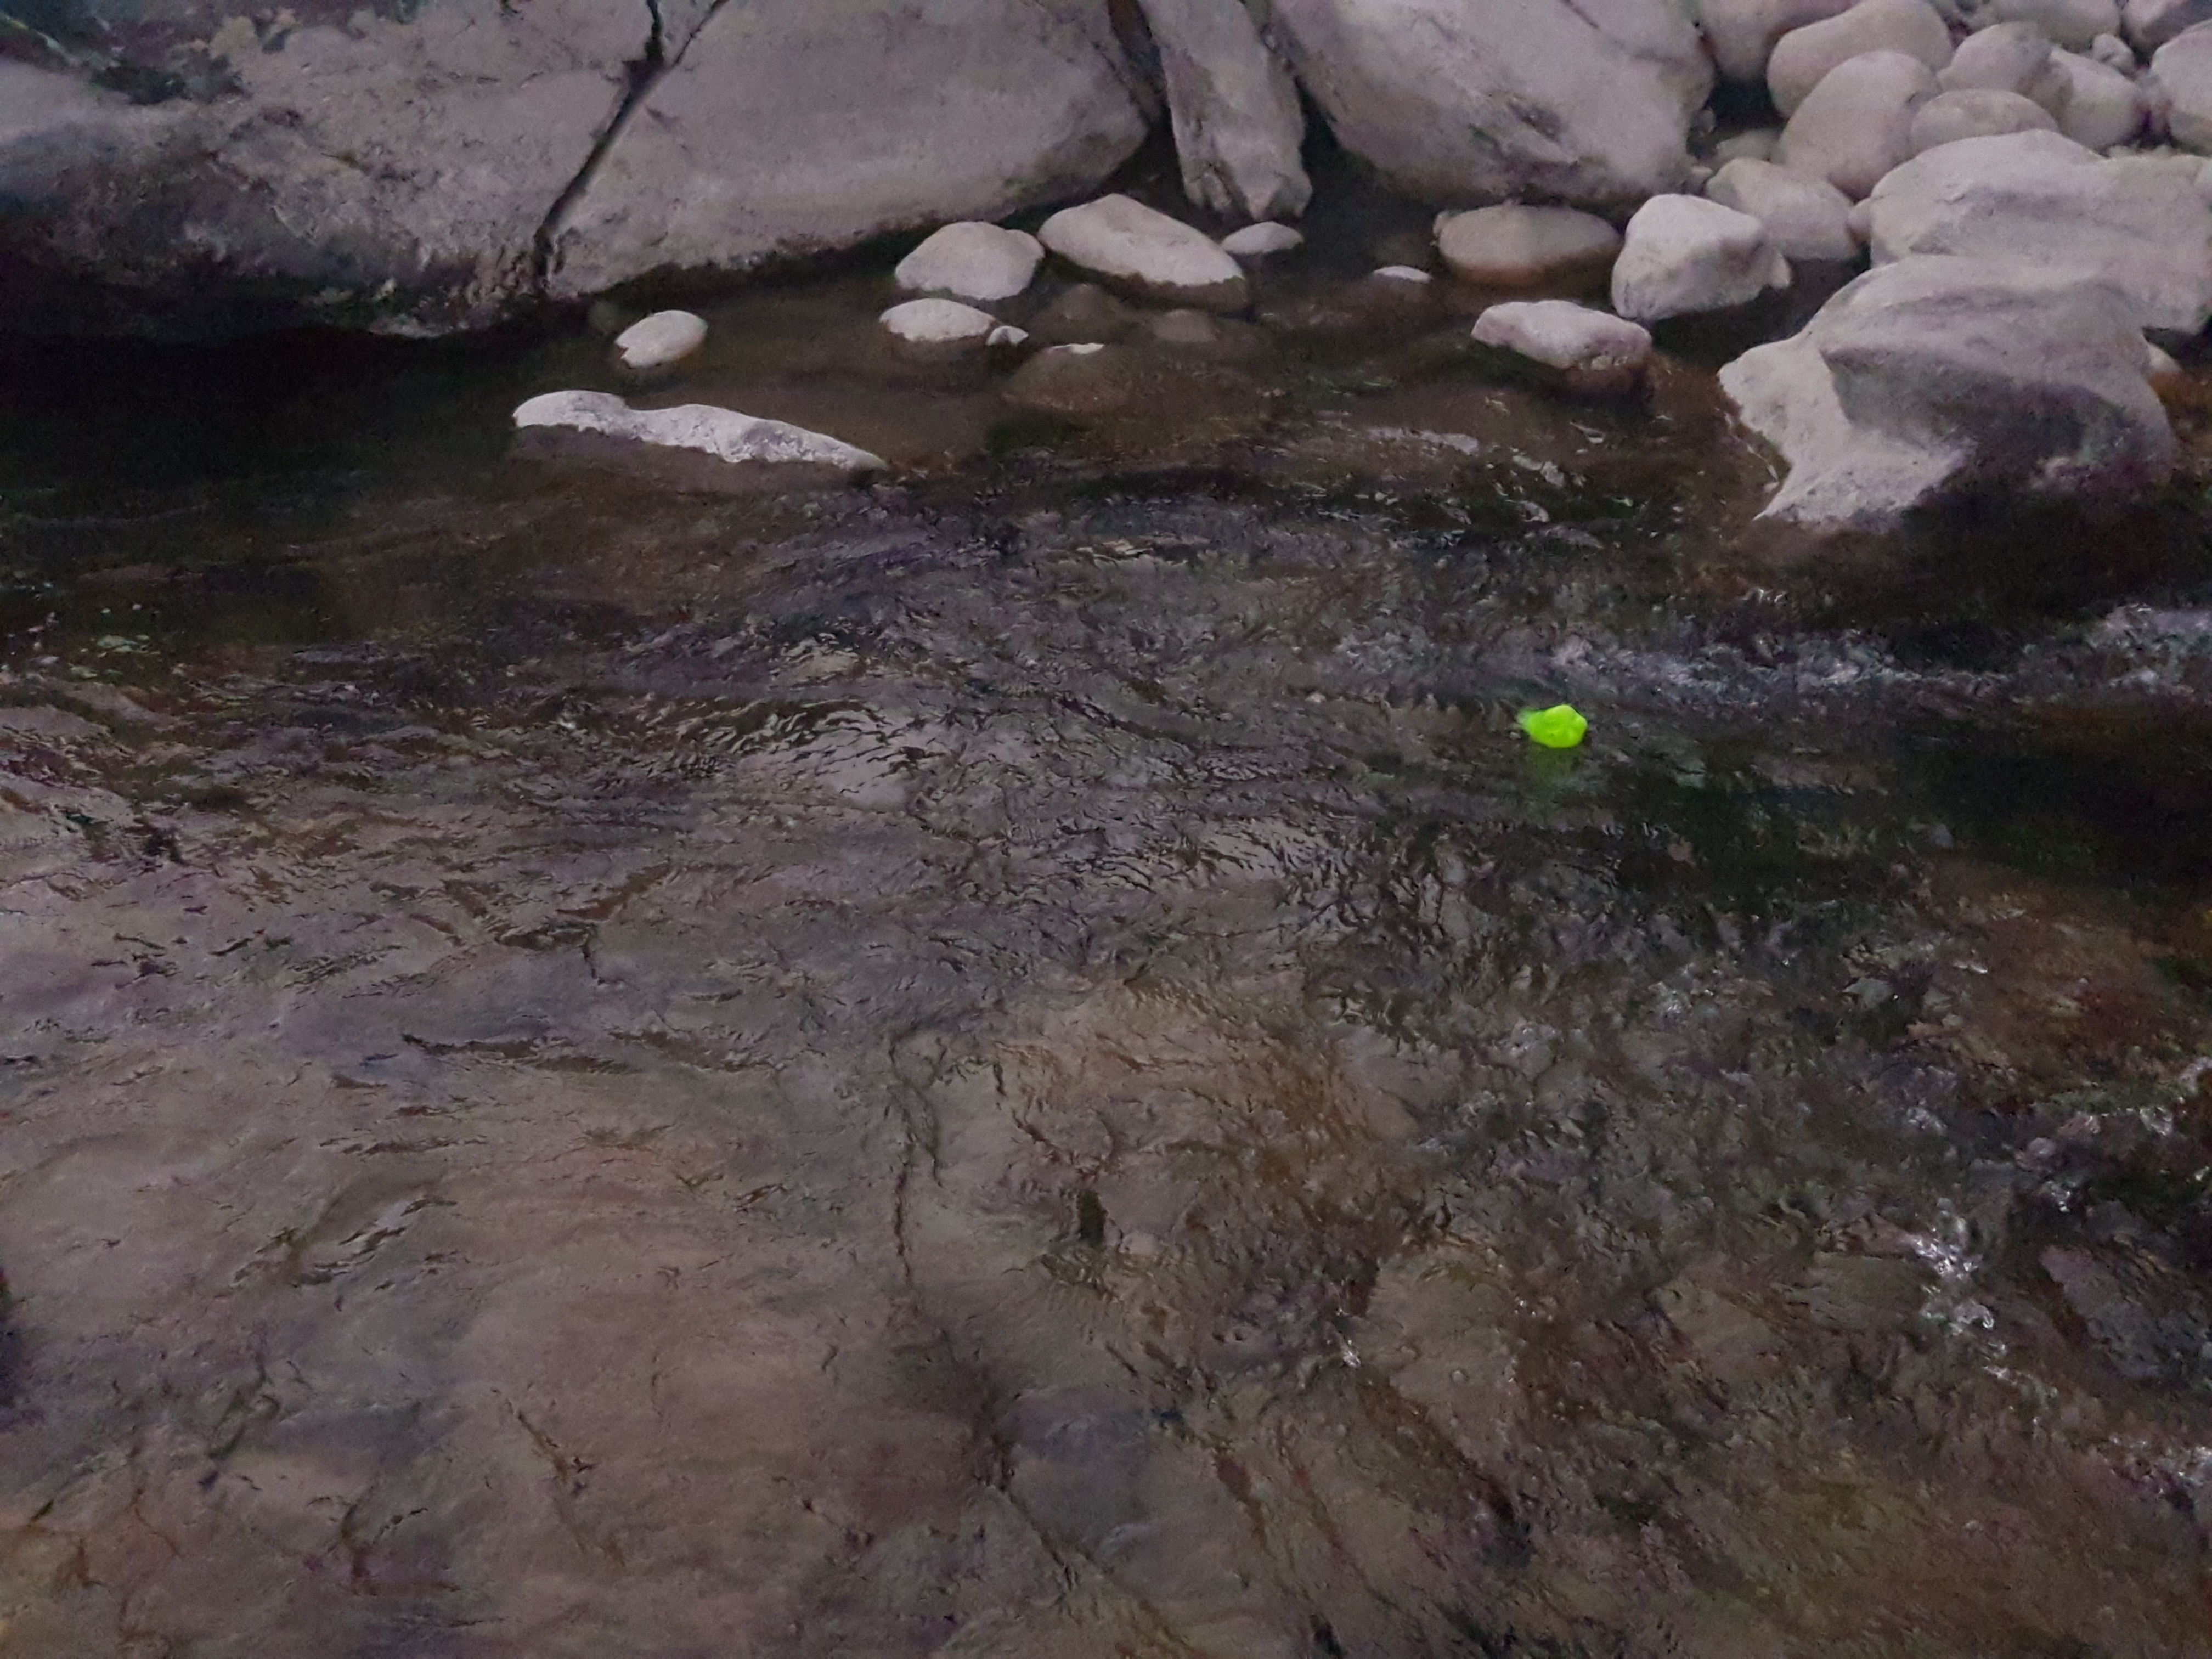Plastic Bottle: (1517, 702, 1588, 744)
